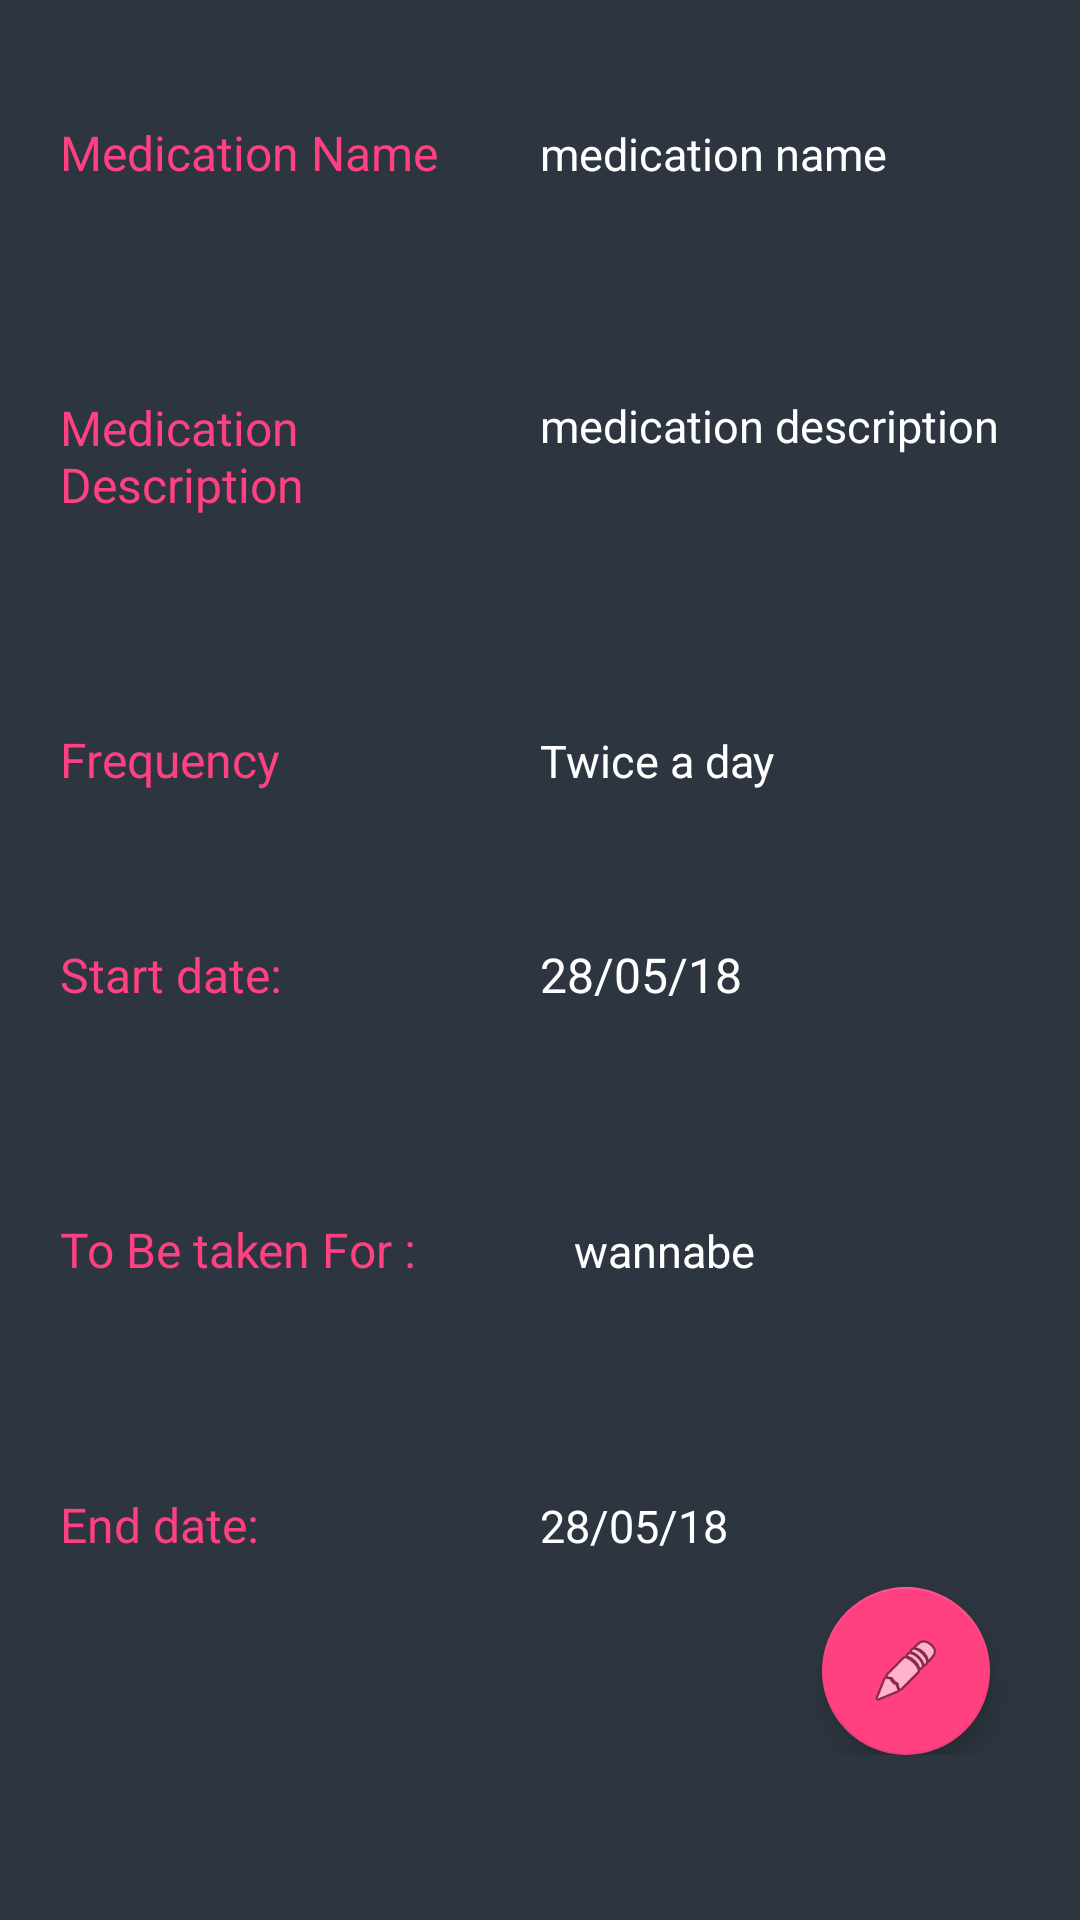

Screen size 1080w x 1920h. Icon name, then its center in pixels as (x=x, y=y):
edit: (x=906, y=1671)
